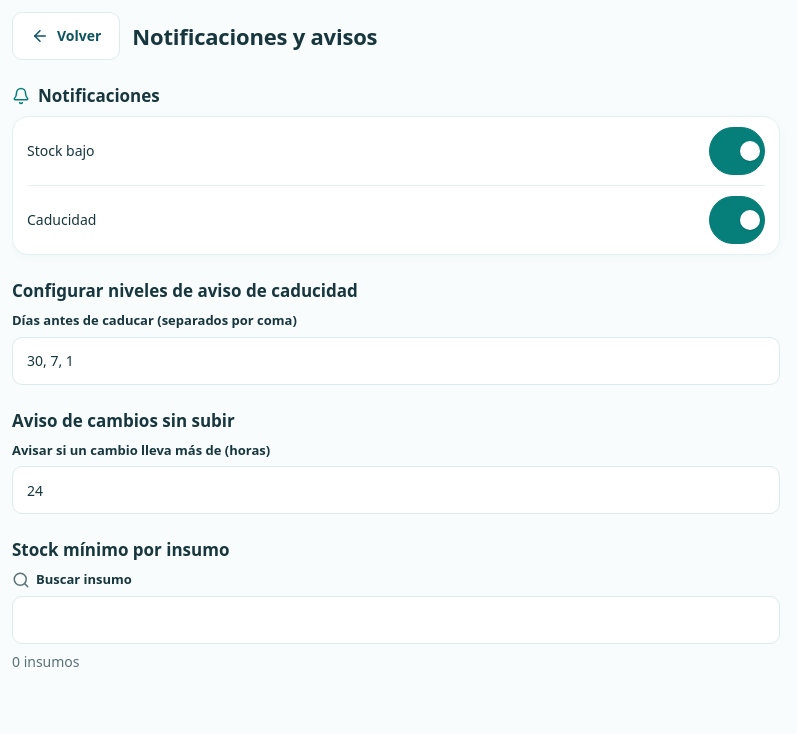
US4 — aviso de pendientes antiguos › (c) 0 horas es inválido y no se guarda
Replace the text in the number field named "Horas sin subir antes de avisar" with "0" at (396, 490), box left=27, top=480, right=765, bottom=500
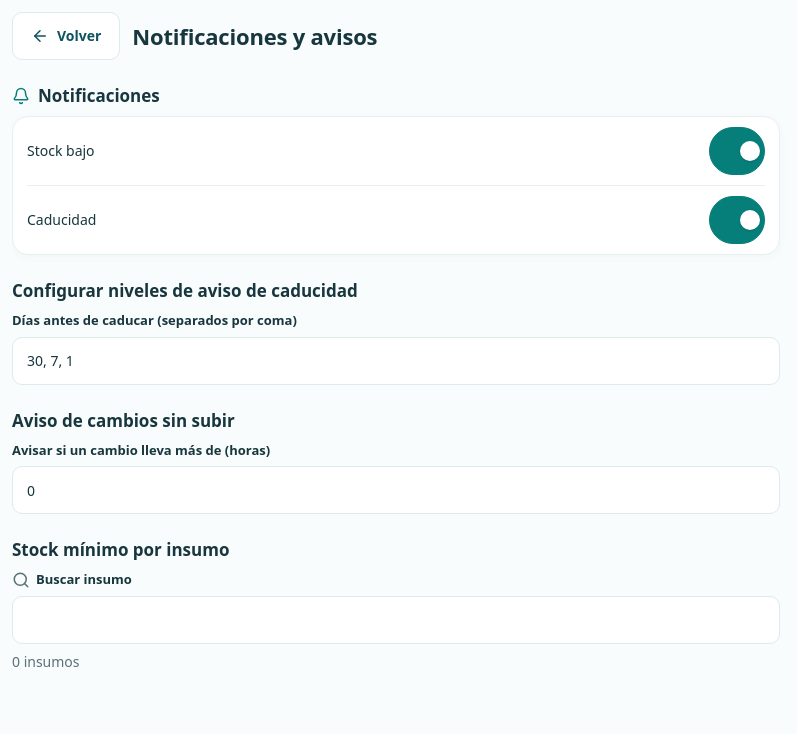
Leave the number field named "Horas sin subir antes de avisar", box left=27, top=480, right=765, bottom=500
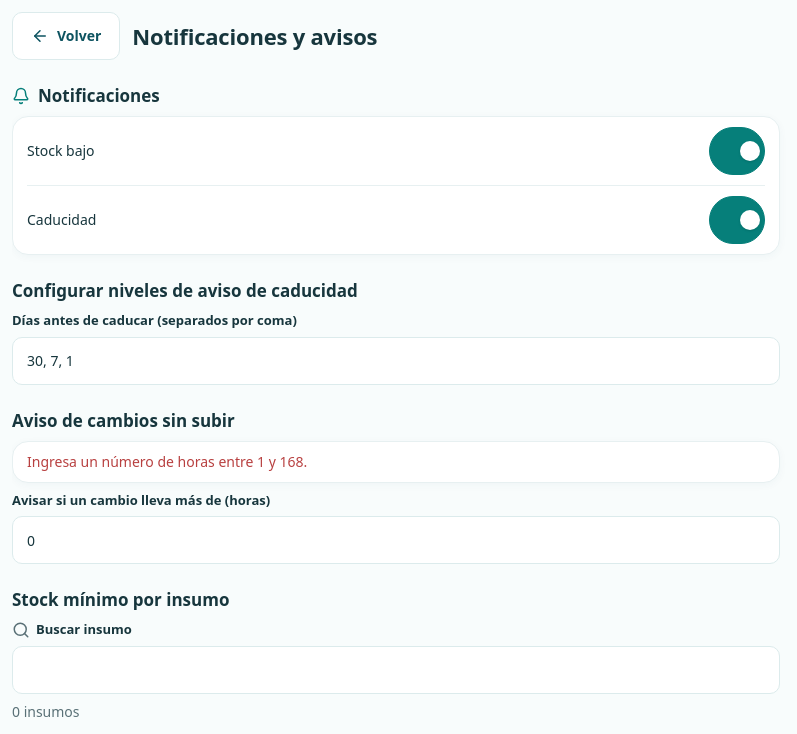
Expected: the message reads "Ingresa un número de horas entre 1 y 168.", left=27, top=452, right=307, bottom=470
